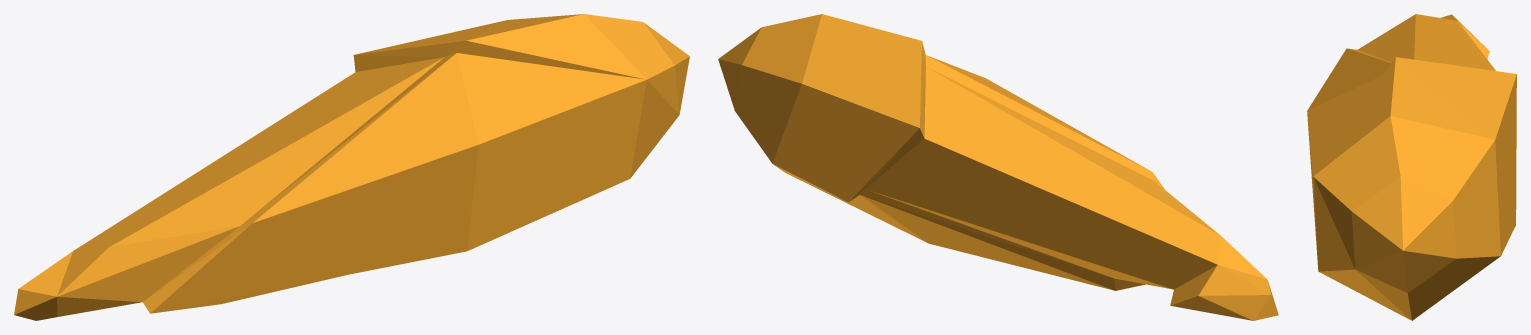
File: SM_Corn_E.fbx
3 renders of one model, left to right at view 1: azimuth 30°, elevation 25°; view 2: azimuth 150°, elevation 25°; view 3: azimuth 270°, elevation 25°, orthographic. The views are drawn at different scales.
Parts seen in each view (by area): view 1: corn-e; view 2: corn-e; view 3: corn-e.
Boxes of the visible parts, x1,y1,x2,y2 form: corn-e: (14,14,689,320); corn-e: (718,14,1278,320); corn-e: (1307,14,1516,320).
Bounding box in the file's own units: 0.3876 × 0.1228 × 0.1023.
